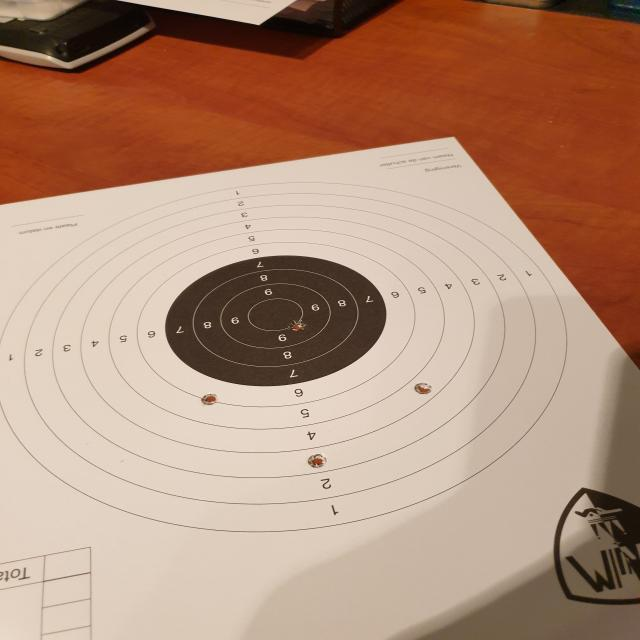10: (286, 319, 308, 331)
3: (306, 453, 328, 469)
4: (413, 381, 433, 395)
6: (200, 392, 218, 407)
Target: (0, 180, 571, 535)
black_contour: (166, 256, 387, 387)
